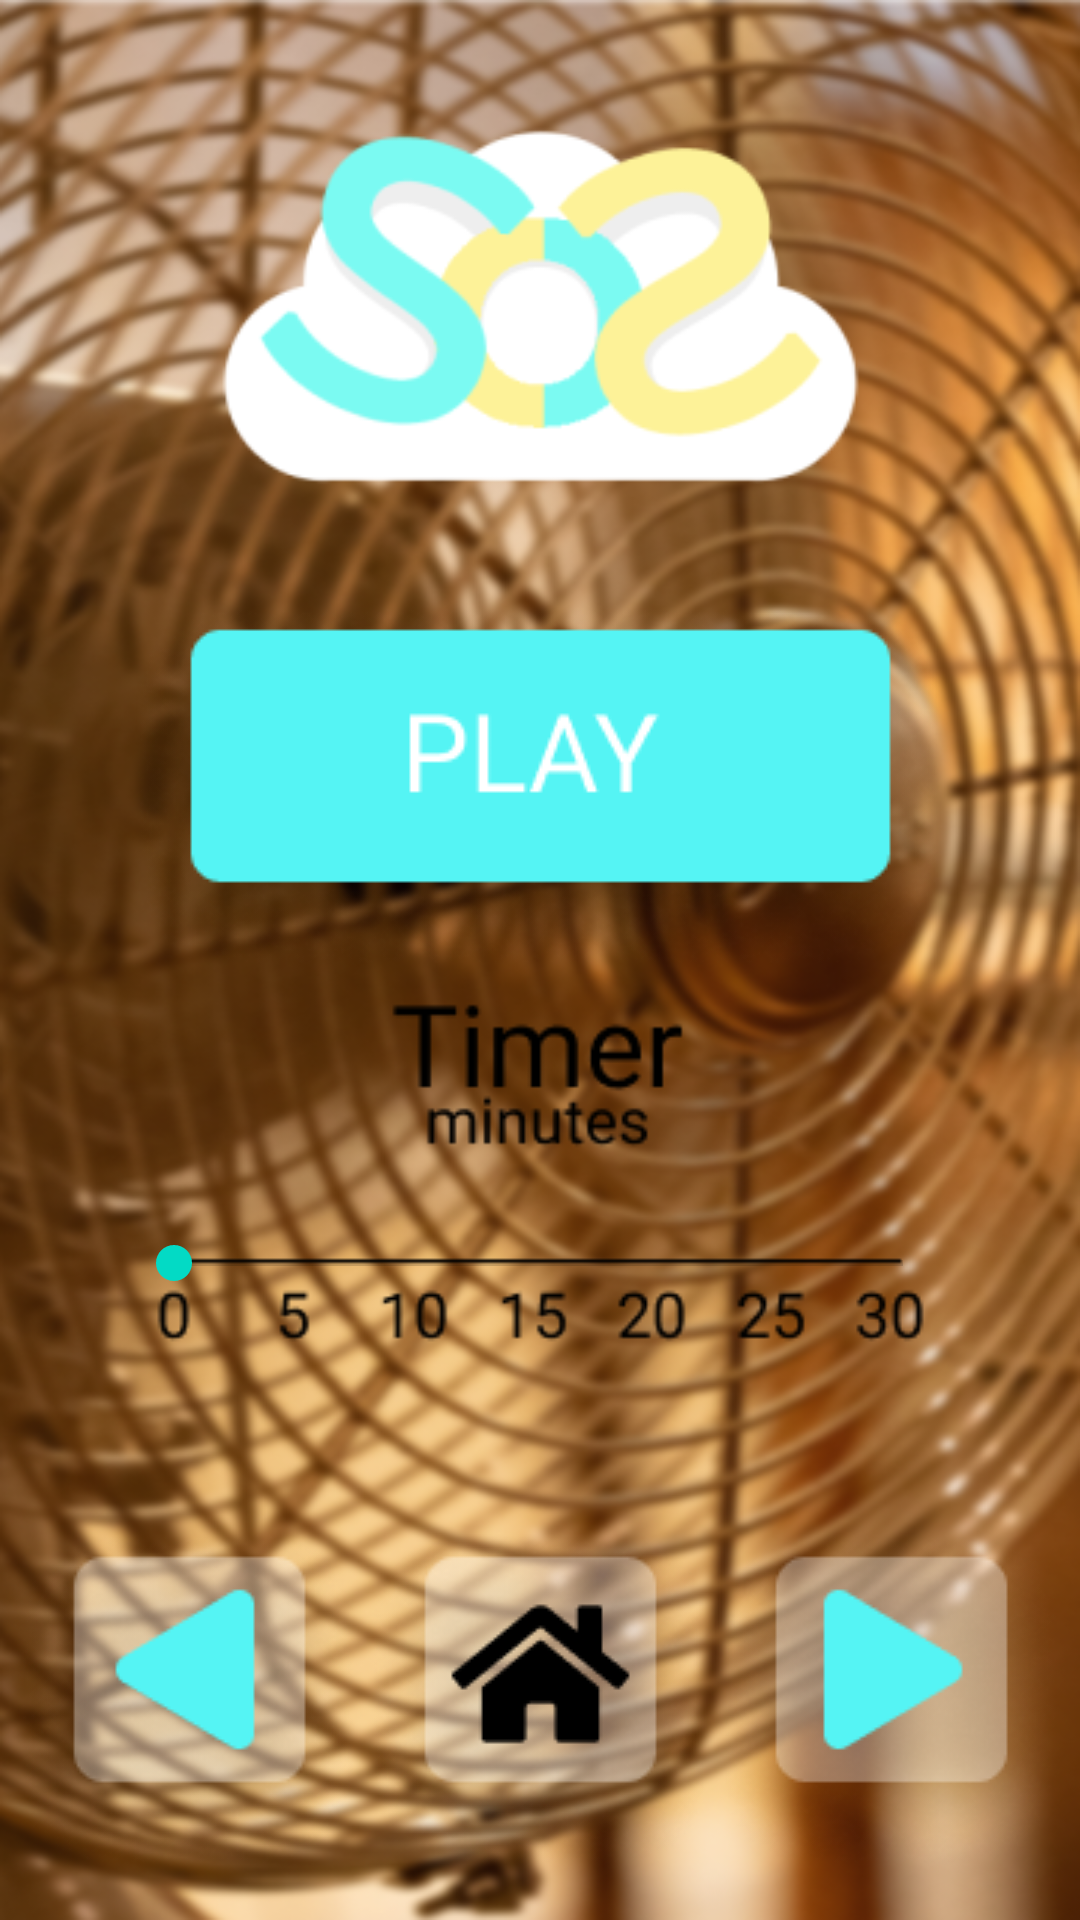

Icons on this 1080x1920 Android screen, each with the point to tap as [x,y]:
homebutton: [540,1699]
nextbutton: [891,1699]
previousbutton: [189,1699]
